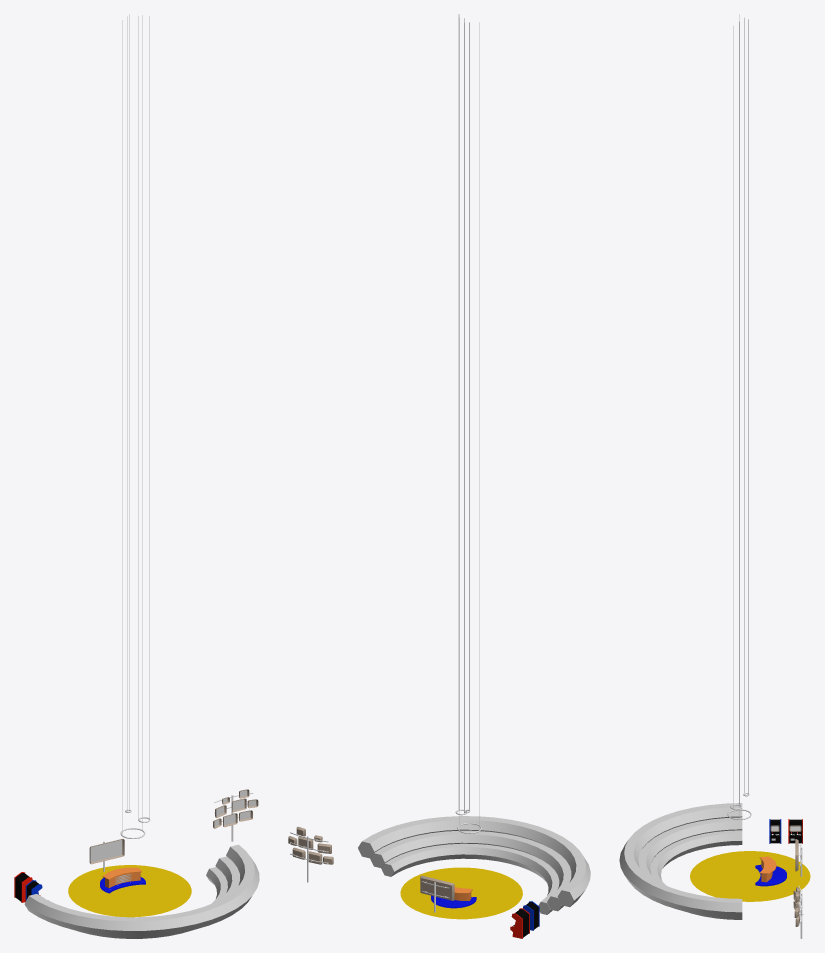
Rendered from Plateau_TV.fbx.
The picture shows the model from 3 angles, left to right: view 1: azimuth 30°, elevation 25°; view 2: azimuth 150°, elevation 25°; view 3: azimuth 270°, elevation 25°; orthographic projection. The views are drawn at different scales.
Visible parts, largest first — view 1: Torus.005, Cylinder.058, Cylinder.054, Torus.003, Cube.186, Torus.006, Cube.185; view 2: Torus.005, Cylinder.058, Cylinder.054, Torus.003, Torus.006; view 3: Torus.005, Cylinder.054, Cylinder.058, Torus.003, Torus.006.
Boxes of the visible parts, left/top/right/bottom form: Torus.005: left=24, top=844, right=259, bottom=936; Cylinder.058: left=122, top=14, right=149, bottom=834; Cylinder.054: left=68, top=865, right=191, bottom=917; Torus.003: left=48, top=856, right=239, bottom=937; Cube.186: left=89, top=839, right=124, bottom=864; Torus.006: left=78, top=867, right=227, bottom=938; Cube.185: left=102, top=867, right=141, bottom=887; Torus.005: left=358, top=816, right=590, bottom=907; Cylinder.058: left=458, top=14, right=479, bottom=830; Cylinder.054: left=400, top=867, right=522, bottom=919; Torus.003: left=370, top=830, right=571, bottom=911; Torus.006: left=381, top=843, right=559, bottom=914; Torus.005: left=619, top=803, right=742, bottom=917; Cylinder.054: left=690, top=851, right=810, bottom=901; Cylinder.058: left=733, top=14, right=748, bottom=818; Torus.003: left=638, top=817, right=742, bottom=918; Torus.006: left=650, top=830, right=742, bottom=919.
Size of the model in its own units: 5849 by 18927 by 3807.
